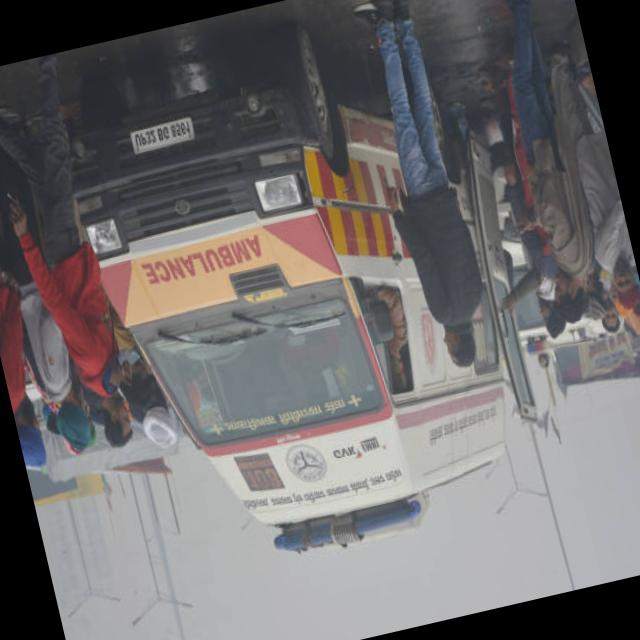ambulance: (234, 435, 436, 577), (119, 204, 282, 315)
